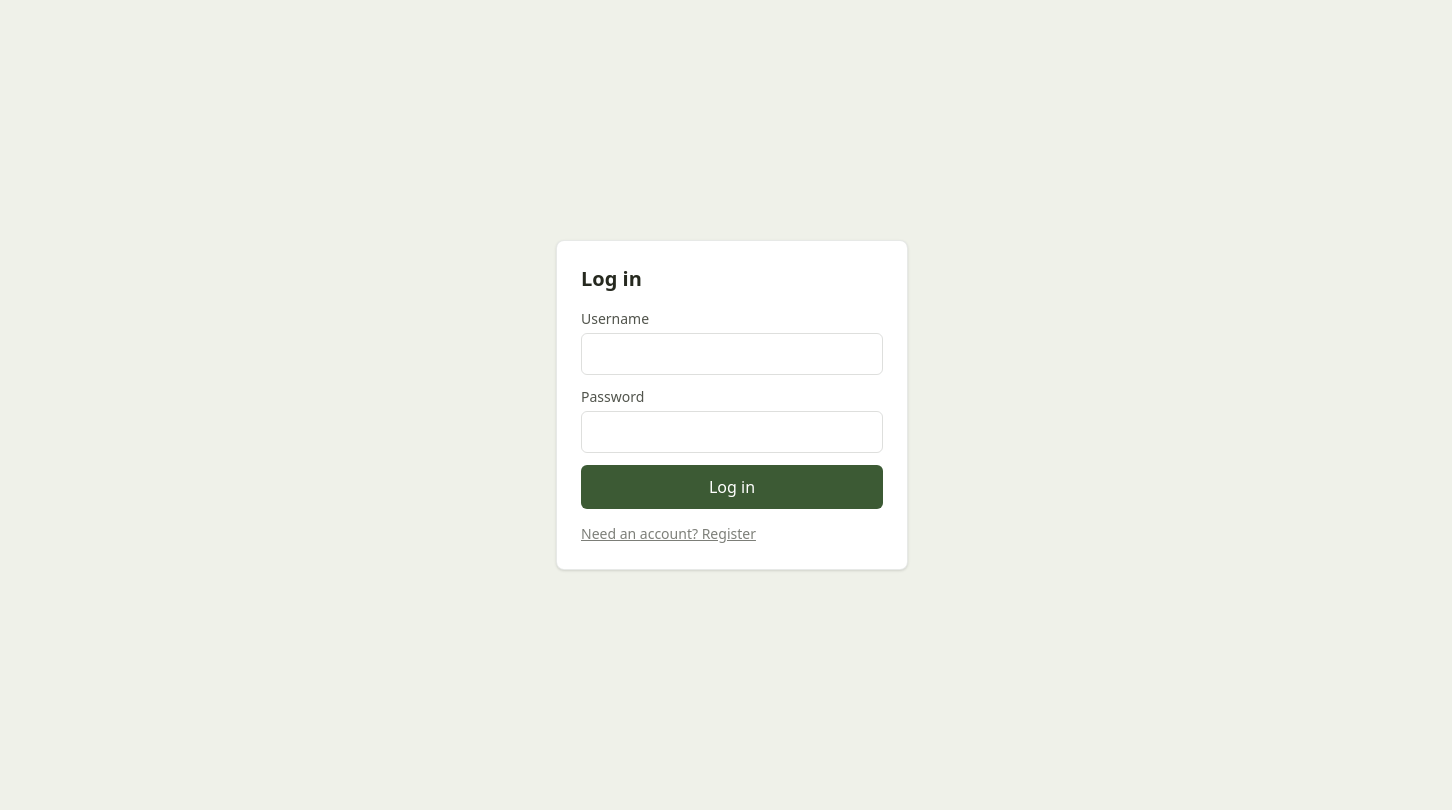
AuthGate › shows children and the username after a successful login
In the field labelled "Username": (732, 354) [581,333,883,375], type "alice"
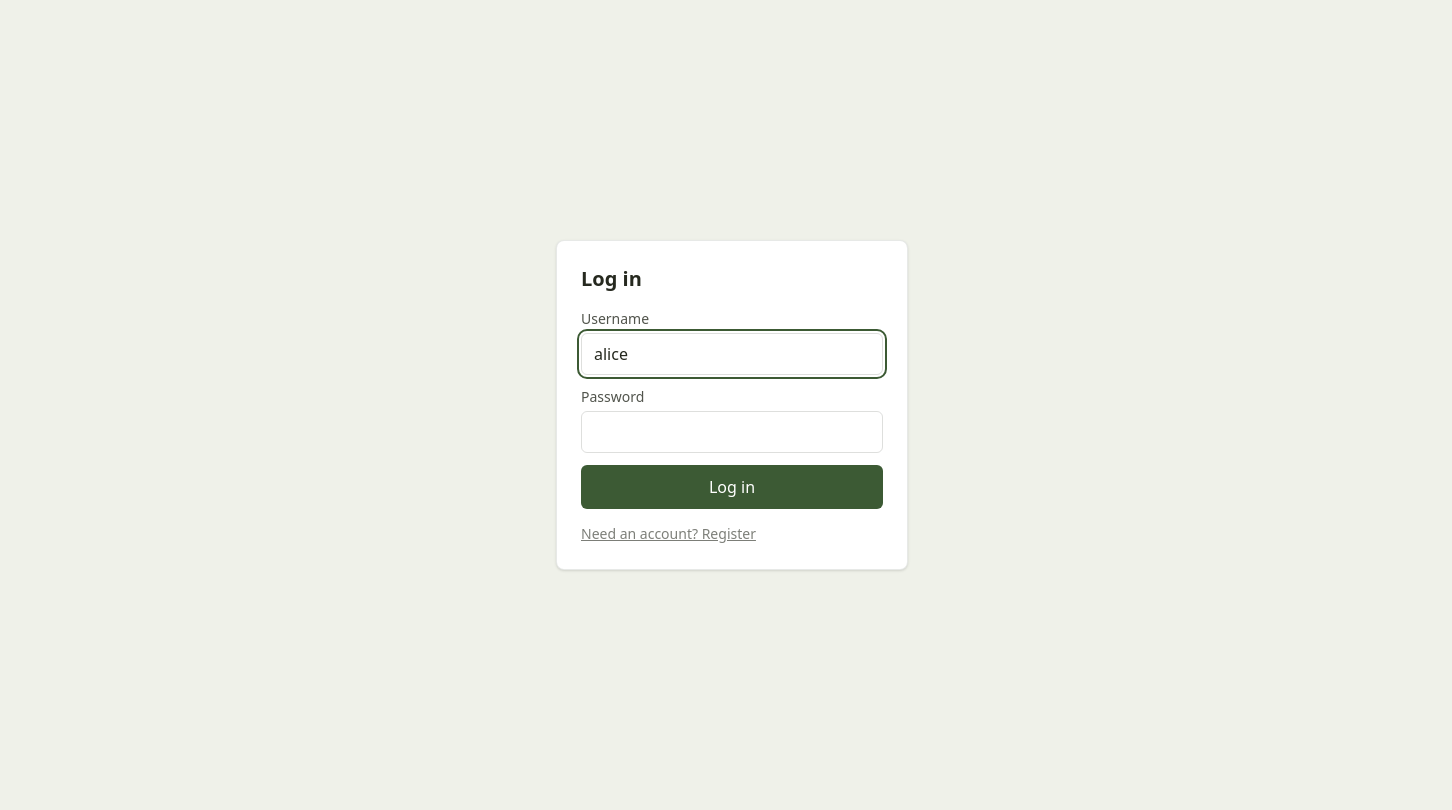
In the password field labelled "Password": (732, 432) [581,411,883,453], type "hunter22222"
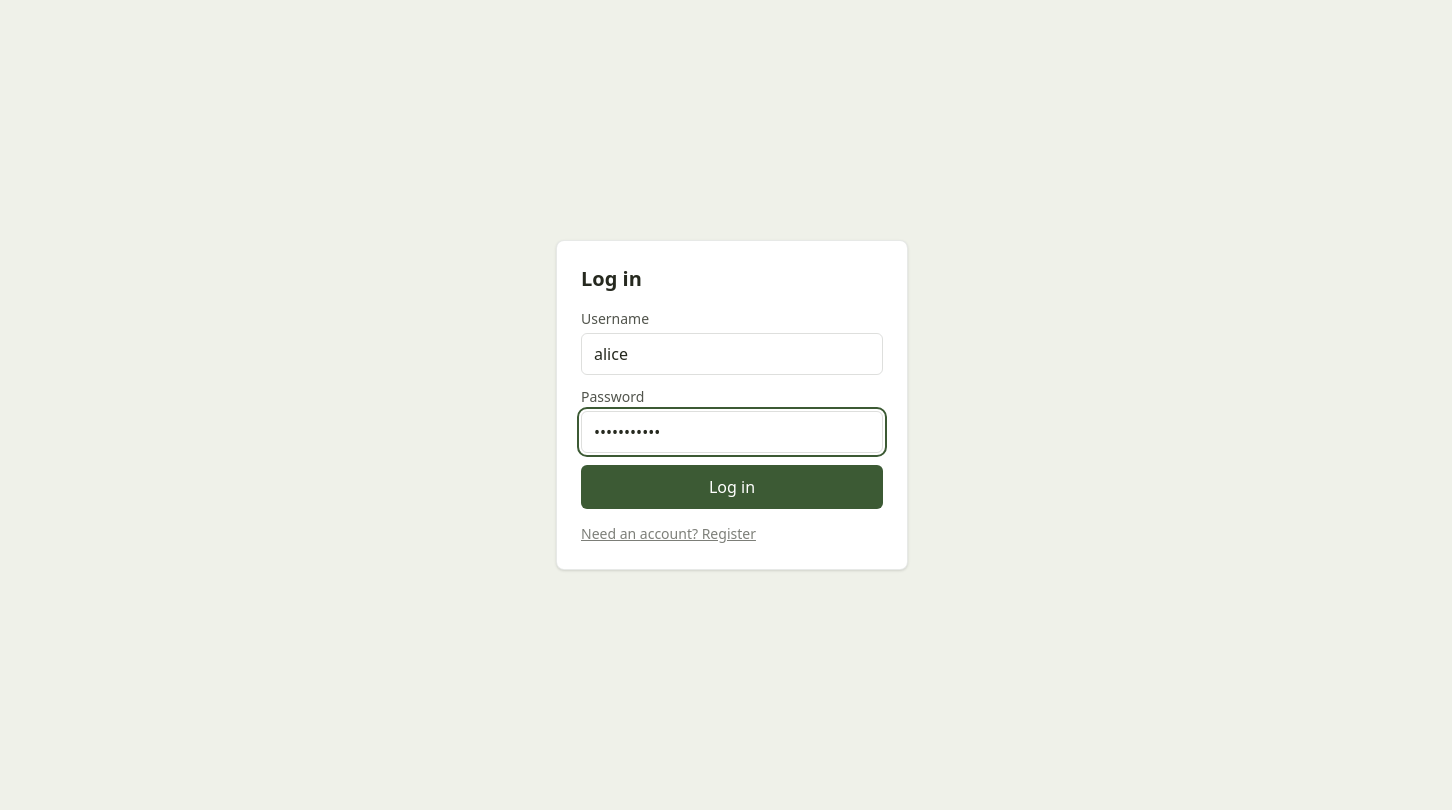
Click the button "Log in": (732, 487) [581,465,883,509]
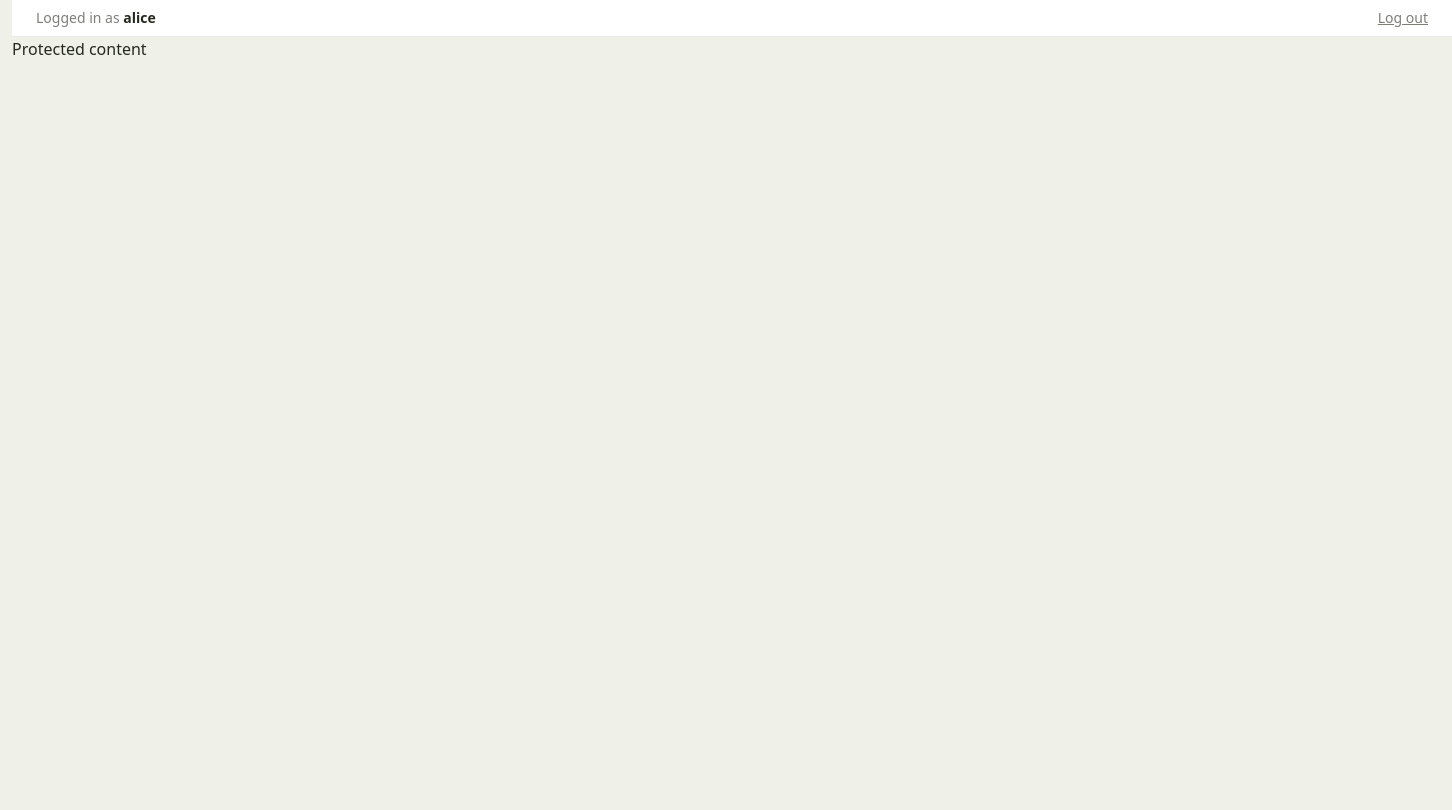
Expected: the text "Protected content" is shown, [12,38,147,60]
Expected: the text "alice" is shown, [123,8,156,27]
